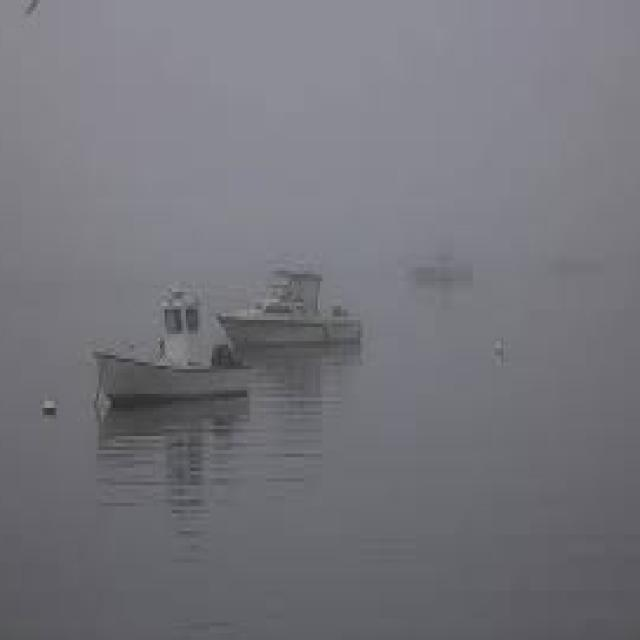houseboat: (88, 278, 254, 406), (221, 252, 363, 350)
